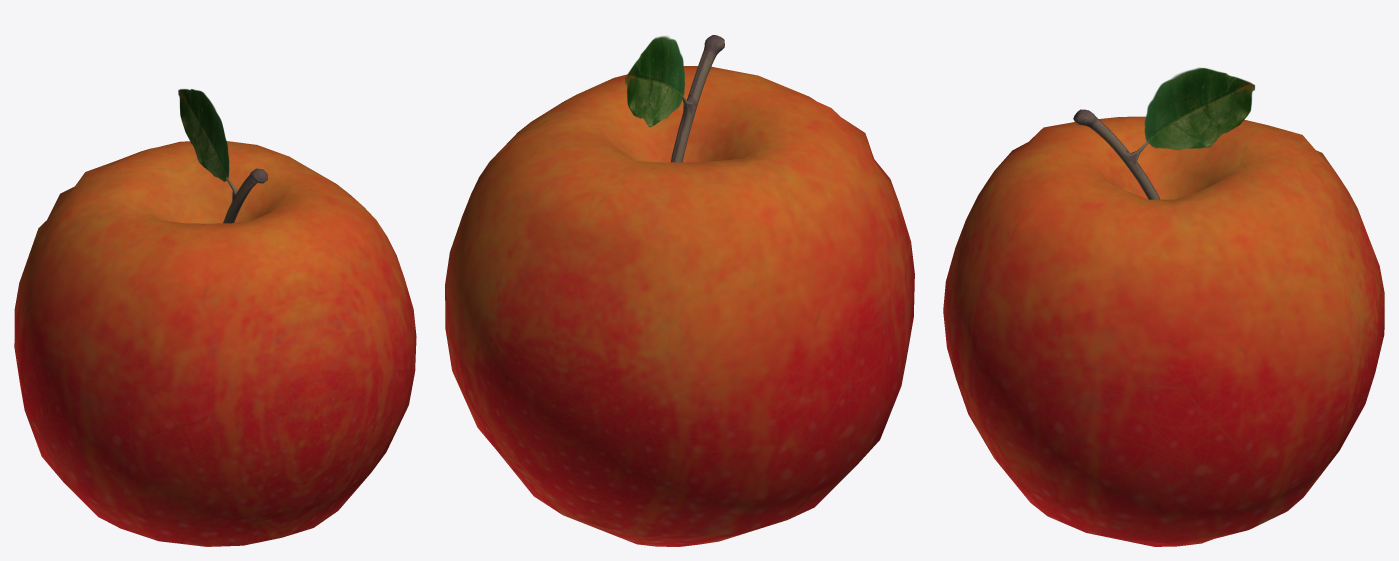
The model's file is apple1.glb.
The picture shows the model from 3 angles, left to right: view 1: azimuth 30°, elevation 25°; view 2: azimuth 150°, elevation 25°; view 3: azimuth 270°, elevation 25°; orthographic projection. The views are drawn at different scales.
Parts seen in each view (by area): view 1: Cube.001; view 2: Cube.001; view 3: Cube.001.
Part boxes in pixels (x1=…): Cube.001: x1=14, y1=89, x2=416, y2=546; Cube.001: x1=445, y1=35, x2=914, y2=546; Cube.001: x1=943, y1=67, x2=1384, y2=546.
Bounding box in the file's own units: 1.53 × 2.01 × 1.57.
1 material, 1 textured.
